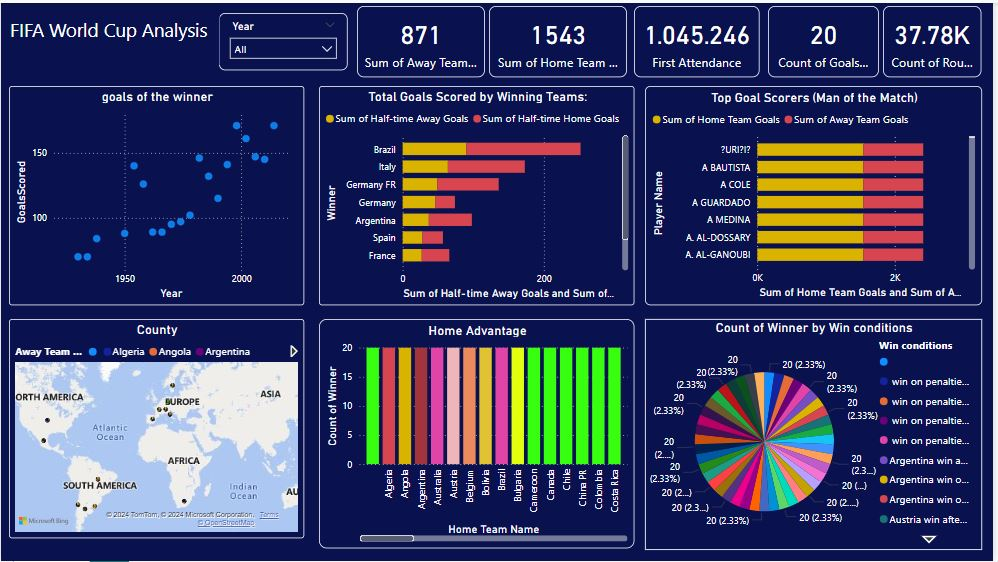

The dashboard page shown, as its layout file describes it:
{"tool":"powerbi","page":{"name":"Page 1","canvas":[1280,720],"ordinal":0},"visuals":[{"type":"barChart","title":"Total Goals Scored by Winning Teams:","fields":{"Category":["WorldCups.Winner"],"Y":["WorldCupMatches.Half-time Away Goals","WorldCupMatches.Half-time Home Goals"]},"box":[410.1,106.5,407.2,283.1],"z":0},{"type":"columnChart","title":"Home Advantage","fields":{"Category":["WorldCupMatches.Home Team Name"],"Y":["WorldCups.Winner"]},"box":[410.1,407.2,407.2,296.3],"z":1000},{"type":"barChart","title":"Top Goal Scorers (Man of the Match)","fields":{"Category":["WorldCupPlayers.Player Name"],"Y":["WorldCupMatches.Home Team Goals","WorldCupMatches.Away Team Goals"]},"box":[830.5,106.5,434.9,283.1],"z":2000},{"type":"pieChart","fields":{"Category":["WorldCupMatches.Win conditions"],"Y":["WorldCups.Winner"]},"box":[830.5,407.2,434.9,297.7],"z":3000},{"type":"slicer","fields":{"Values":["WorldCupMatches.Year"]},"box":[281.7,13.1,166.4,74.4],"z":4000},{"type":"card","fields":{"Values":["WorldCupMatches.Away Team Goals"]},"box":[459.7,4.4,164.9,91.9],"z":5000},{"type":"card","fields":{"Values":["WorldCupMatches.Home Team Goals"]},"box":[629.1,4.4,178.1,91.9],"z":6000},{"type":"card","fields":{"Values":["WorldCups.Attendance"]},"box":[817.3,4.4,162,91.9],"z":7000},{"type":"card","fields":{"Values":["WorldCups.GoalsScored"]},"box":[989.6,4.4,143,91.9],"z":8000},{"type":"card","fields":{"Values":["WorldCupPlayers.RoundID"]},"box":[1138.4,4.4,127,91.9],"z":9000},{"type":"textbox","box":[0,13.1,281.7,67.1],"z":10000},{"type":"scatterChart","title":"goals of the winner","fields":{"X":["WorldCups.Year"],"Y":["WorldCups.GoalsScored"]},"box":[10.2,106.5,380.9,283.1],"z":11000},{"type":"map","title":"County","fields":{"Category":["WorldCups.Country"],"Series":["WorldCupMatches.Away Team Name"]},"box":[10.2,407.2,380.9,283.1],"z":12000}]}

Visuals, with their boxes in screenshot pixels (x1, y1, x2, y2), scaled from the page's 1280x720 canvas onto the 998x562 screenshot:
"Total Goals Scored by Winning Teams:" barChart: <bbox>320, 83, 637, 304</bbox>
"Home Advantage" columnChart: <bbox>320, 318, 637, 549</bbox>
"Top Goal Scorers (Man of the Match)" barChart: <bbox>648, 83, 987, 304</bbox>
pieChart - WorldCupMatches.Win conditions x WorldCups.Winner: <bbox>648, 318, 987, 550</bbox>
slicer - WorldCupMatches.Year: <bbox>220, 10, 349, 68</bbox>
card - WorldCupMatches.Away Team Goals: <bbox>358, 3, 487, 75</bbox>
card - WorldCupMatches.Home Team Goals: <bbox>491, 3, 629, 75</bbox>
card - WorldCups.Attendance: <bbox>637, 3, 764, 75</bbox>
card - WorldCups.GoalsScored: <bbox>772, 3, 883, 75</bbox>
card - WorldCupPlayers.RoundID: <bbox>888, 3, 987, 75</bbox>
textbox: <bbox>0, 10, 220, 63</bbox>
"goals of the winner" scatterChart: <bbox>8, 83, 305, 304</bbox>
"County" map: <bbox>8, 318, 305, 539</bbox>
